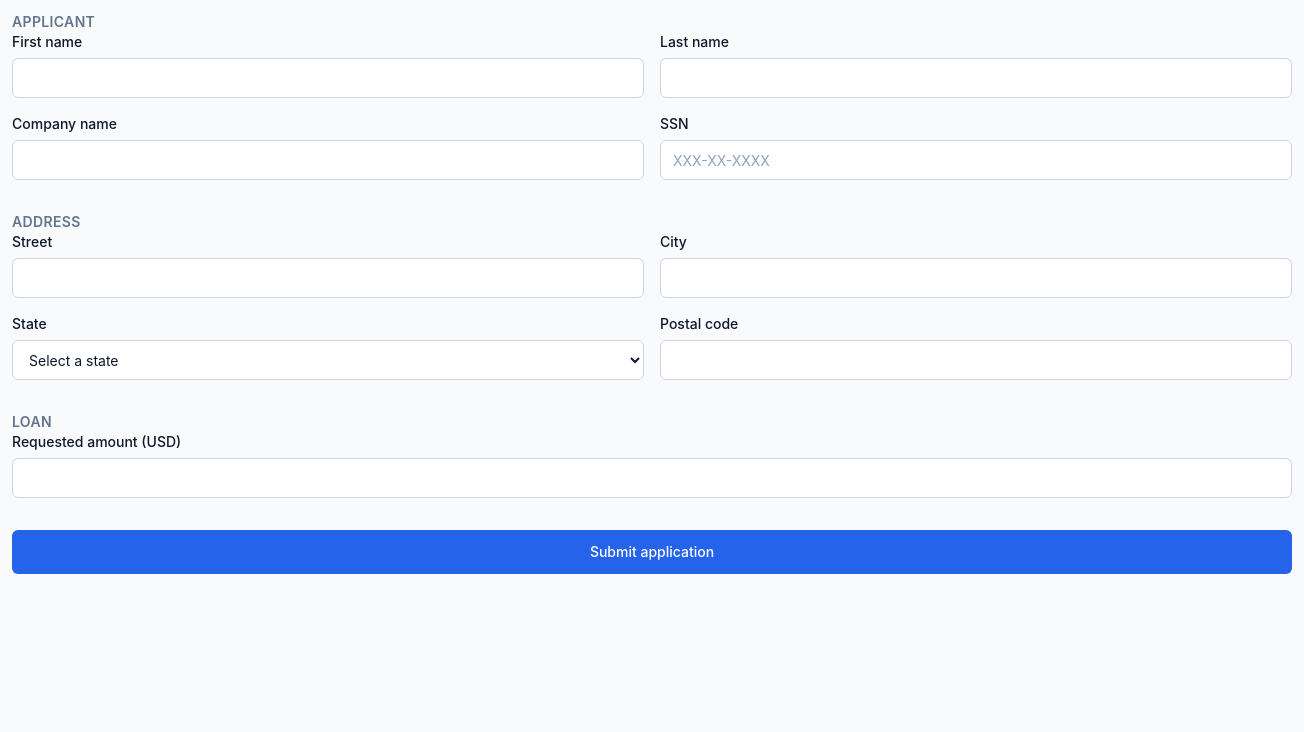
Test: LoanApplicationForm › masks the SSN as XXX-XX-XXXX, ignoring non-digits and anything past 9 digits
The width and height of the screenshot is (1304, 732).
In the field labelled "SSN": (976, 160) [660,140,1292,180], type "55a5 55-5555999"
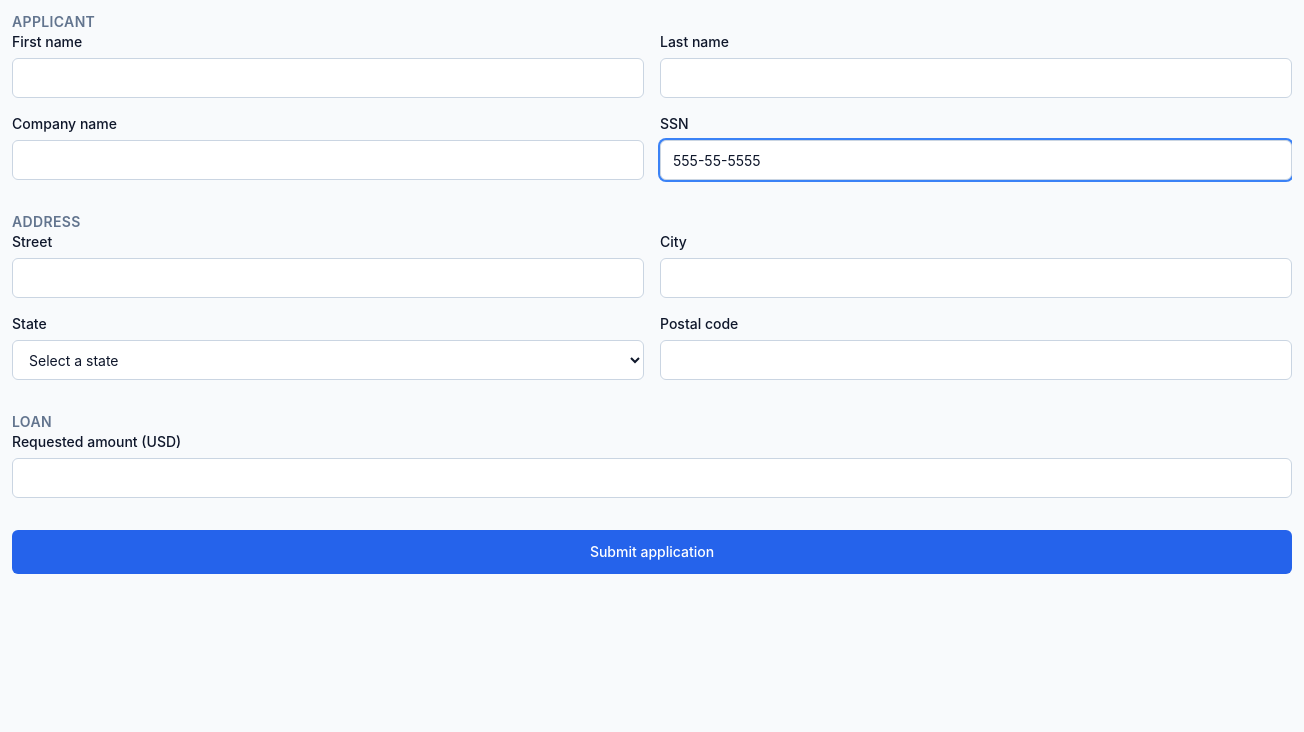
Expected: the field labelled "SSN" holds "555-55-5555", [660,140,1292,180]
